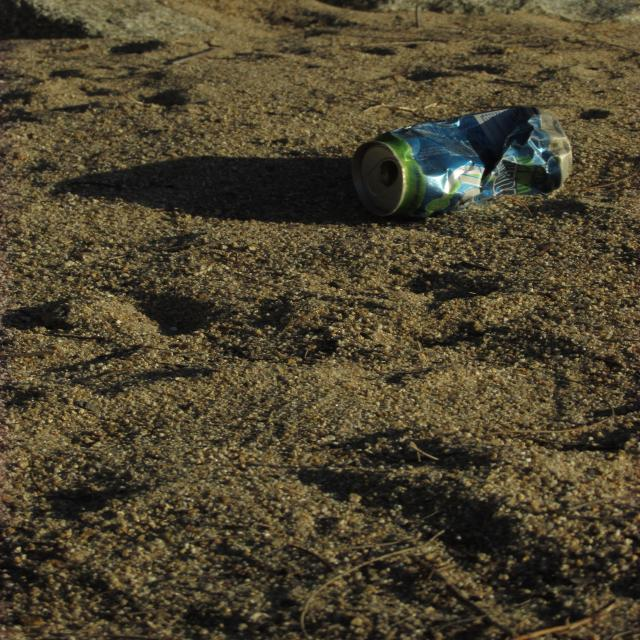metal: (352, 112, 562, 203)
